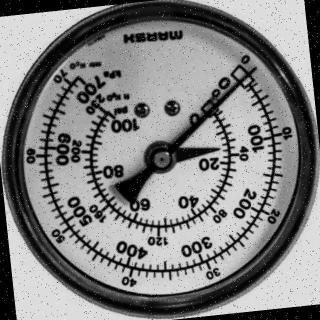gauge: (0, 0, 320, 320), (212, 50, 262, 99), (55, 58, 102, 101), (148, 142, 174, 172), (241, 62, 261, 82), (204, 142, 224, 156)
